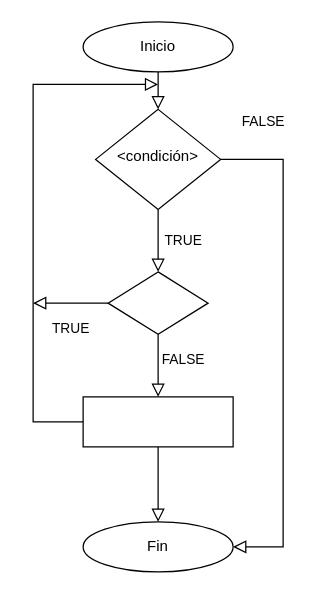
Some shapes in this 318 by 594 pixel diagram are drawn without their labels. The shapes that lost their labels are listed below. From the top down, each one's centre as x and y in pixels, then its label:
At point (157, 302): "next".
At point (157, 421): "Bloque de instrucciones".
